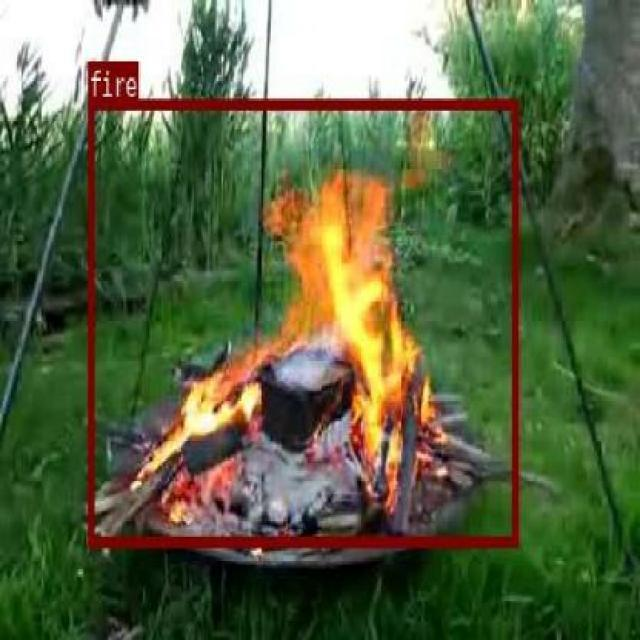Fire: (88, 98, 517, 544)
